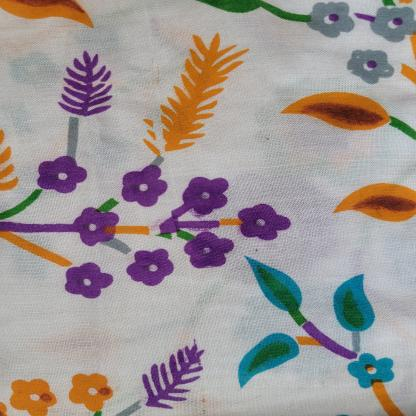spot: (141, 62, 168, 88), (198, 388, 214, 416), (260, 135, 278, 143), (252, 248, 265, 257)
